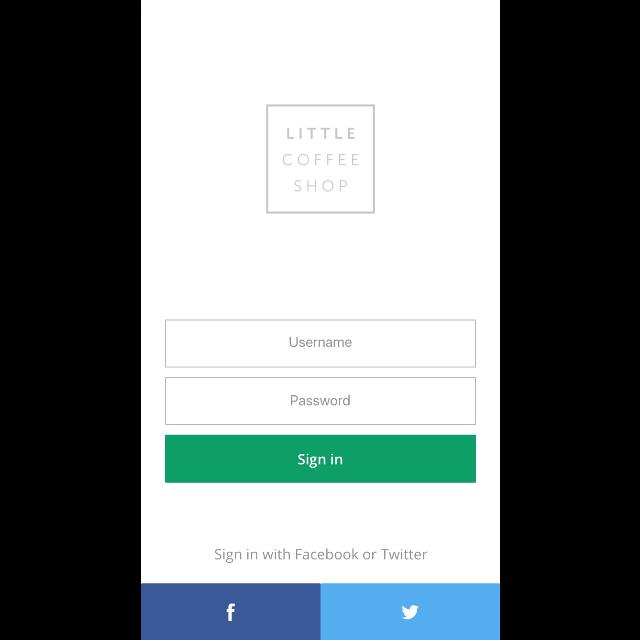image: (266, 104, 374, 214)
input: (164, 320, 476, 368), (164, 377, 476, 425)
text: (215, 548, 428, 564), (289, 337, 351, 348), (290, 396, 350, 406)
textbutton: (164, 435, 476, 483), (140, 584, 320, 640), (320, 584, 500, 640)
